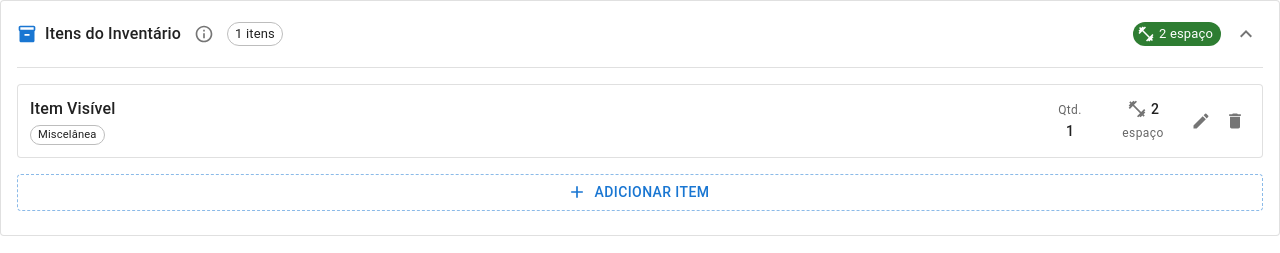
Scenario: InventoryList › Expandir/Recolher › deve permitir recolher a lista
This screenshot has width=1280, height=253.
Expected: the text "Item Visível" is shown, [30,97,116,121]
Click the button named "recolher": (1246, 34) [1229,17,1263,51]
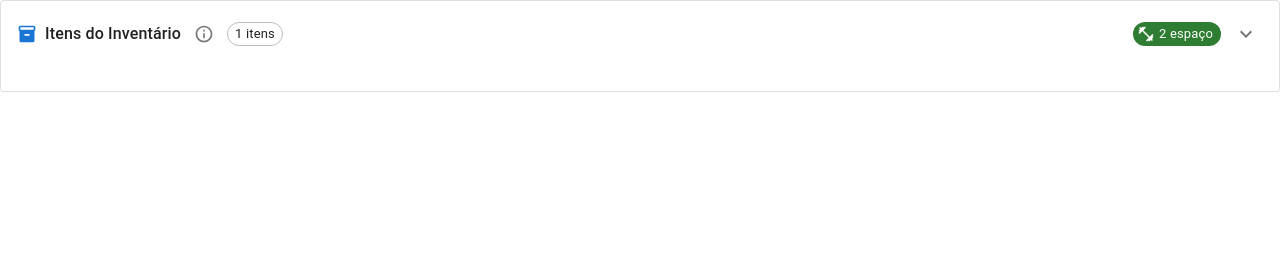
Expected: the text "Item Visível" is gone
